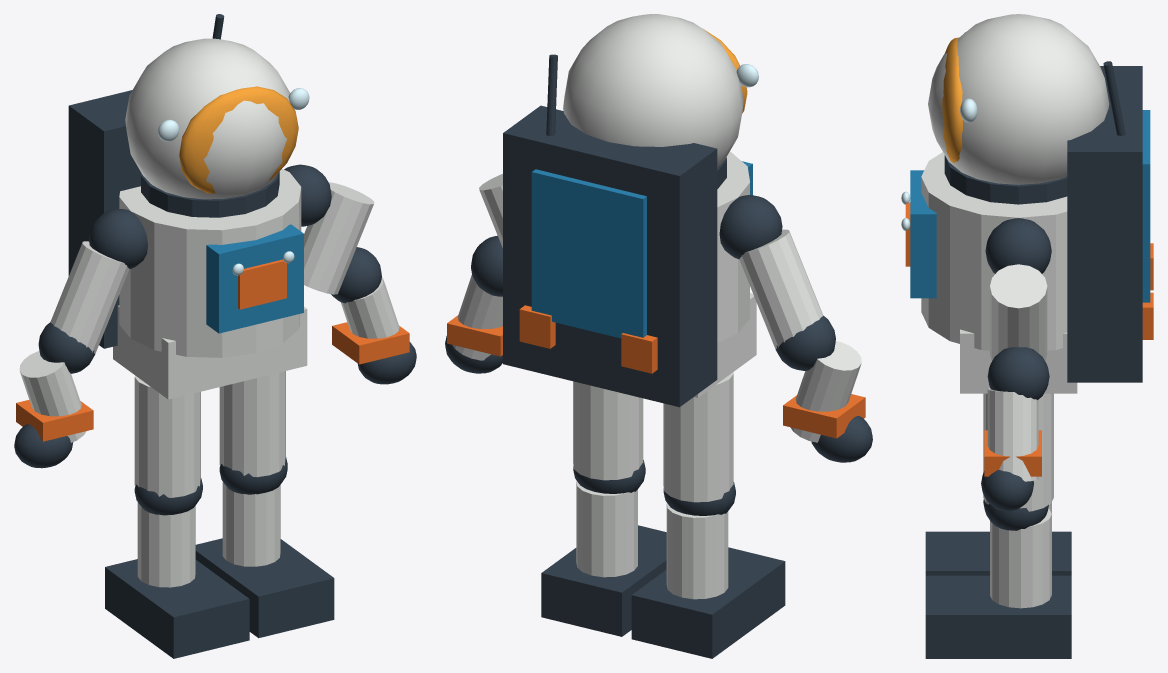
File: lycoris-m1.glb
3 renders of one model, left to right at view 1: azimuth 30°, elevation 25°; view 2: azimuth 150°, elevation 25°; view 3: azimuth 270°, elevation 25°, orthographic. The views are drawn at different scales.
Visible parts, largest first — view 1: Pressure helmet, Rigid upper torso, Mars traction boot, PLSS primary housing, Mars traction boot.001, Lower torso mobility section, Upper leg, Chest control and display, Upper leg.001, Upper arm, Upper arm.001, Gold sun visor (+16 smaller); view 2: PLSS primary housing, Pressure helmet, PLSS service panel, Mars traction boot, Upper leg, Mars traction boot.001, Upper leg.001, Upper arm, Lower leg, Lower leg.001, Rigid upper torso, Forearm (+15 smaller); view 3: Pressure helmet, PLSS primary housing, Rigid upper torso, Mars traction boot.001, Lower leg.001, Upper arm.001, Mars traction boot, Forearm.001, Chest control and display, Shoulder mobility bearing.001, Lower torso mobility section, Helmet lower ring (+9 smaller).
Part boxes in pixels (bbox=[...]): Pressure helmet: bbox=[125, 38, 289, 199]; Rigid upper torso: bbox=[119, 169, 301, 357]; Mars traction boot: bbox=[105, 559, 249, 658]; PLSS primary housing: bbox=[68, 90, 141, 348]; Mars traction boot.001: bbox=[195, 538, 334, 638]; Lower torso mobility section: bbox=[113, 305, 307, 399]; Upper leg: bbox=[134, 375, 200, 497]; Chest control and display: bbox=[206, 224, 303, 333]; Upper leg.001: bbox=[219, 371, 285, 476]; Upper arm: bbox=[50, 241, 129, 353]; Upper arm.001: bbox=[304, 182, 374, 294]; Gold sun visor: bbox=[179, 86, 298, 193]; PLSS primary housing: bbox=[503, 105, 717, 407]; Pressure helmet: bbox=[563, 14, 743, 167]; PLSS service panel: bbox=[531, 169, 646, 338]; Mars traction boot: bbox=[631, 547, 785, 658]; Upper leg: bbox=[663, 372, 733, 502]; Mars traction boot.001: bbox=[541, 525, 666, 636]; Upper leg.001: bbox=[573, 381, 643, 480]; Upper arm: bbox=[739, 229, 822, 348]; Lower leg: bbox=[666, 503, 728, 599]; Lower leg.001: bbox=[576, 481, 637, 577]; Rigid upper torso: bbox=[717, 151, 749, 342]; Forearm: bbox=[790, 341, 861, 442]; Pressure helmet: bbox=[928, 14, 1109, 184]; PLSS primary housing: bbox=[1067, 66, 1142, 382]; Rigid upper torso: bbox=[921, 152, 1067, 350]; Mars traction boot.001: bbox=[925, 575, 1071, 658]; Lower leg.001: bbox=[990, 508, 1051, 608]; Upper arm.001: bbox=[990, 264, 1047, 361]; Mars traction boot: bbox=[925, 531, 1071, 575]; Forearm.001: bbox=[987, 388, 1038, 481]; Chest control and display: bbox=[910, 170, 936, 298]; Shoulder mobility bearing.001: bbox=[985, 218, 1051, 273]; Lower torso mobility section: bbox=[960, 329, 1077, 393]; Helmet lower ring: bbox=[944, 155, 1067, 204].
Size of the model in its own units: 4.4 by 5.94 by 2.28.
